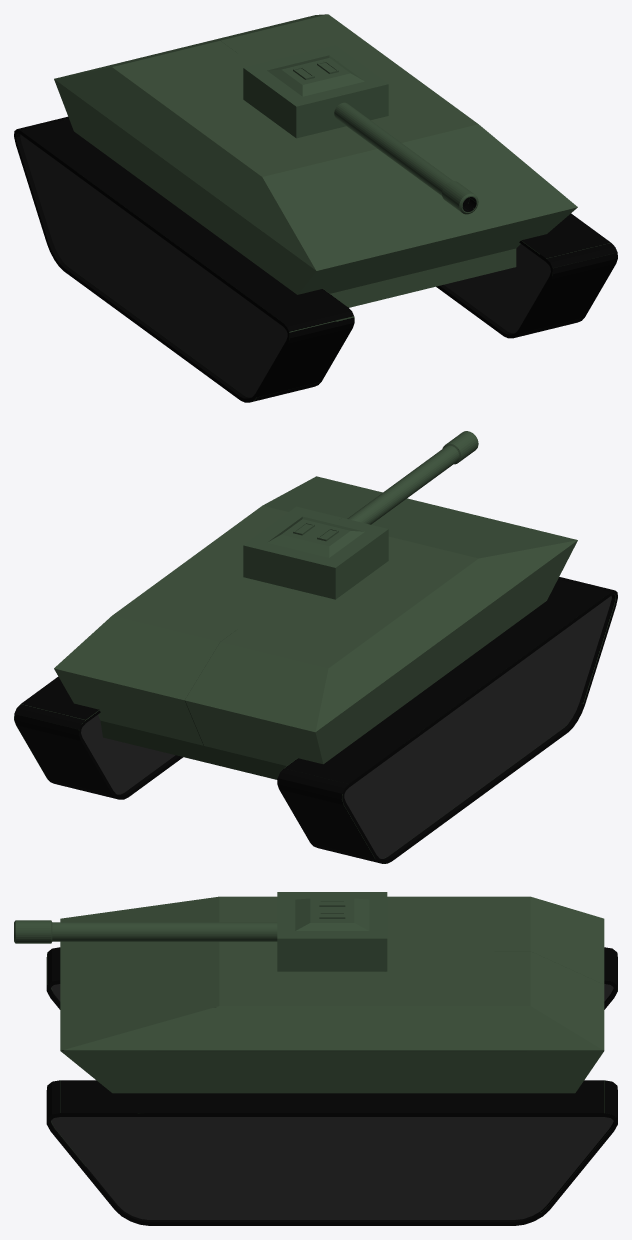
The model's file is Big Boss Tank Textured.fbx.
3 renders of one model, top to bottom at view 1: azimuth 30°, elevation 25°; view 2: azimuth 150°, elevation 25°; view 3: azimuth 270°, elevation 25°, orthographic. The views are drawn at different scales.
Visible parts, largest first — view 1: Tank Base, Tank Top; view 2: Tank Base, Tank Top; view 3: Tank Base, Tank Top.
Boxes of the visible parts, <box> form: Tank Base: <box>14,14,617,402</box>; Tank Top: <box>243,45,478,214</box>; Tank Base: <box>14,476,617,863</box>; Tank Top: <box>243,431,478,599</box>; Tank Base: <box>46,896,617,1225</box>; Tank Top: <box>14,892,387,971</box>.
Bounding box in the file's own units: 460 × 302 × 708.
Materials: 2 (2 with a texture image).
